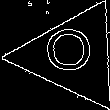O_S: (47, 30, 97, 83)
